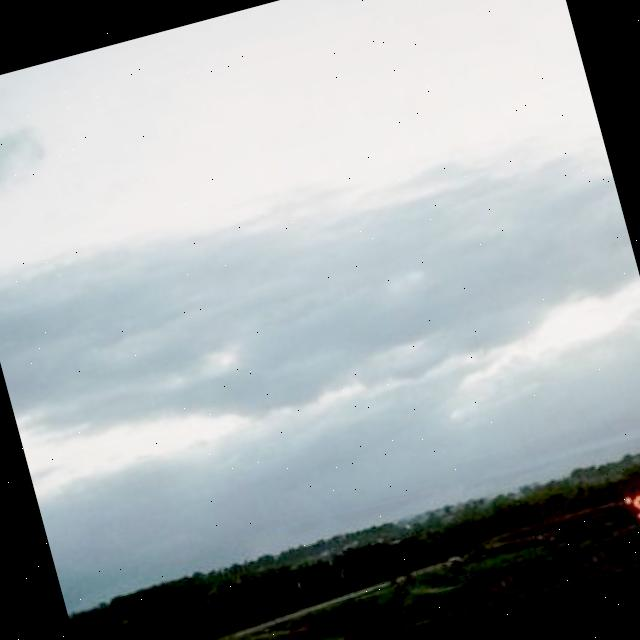Sc: (1, 1, 640, 554)
